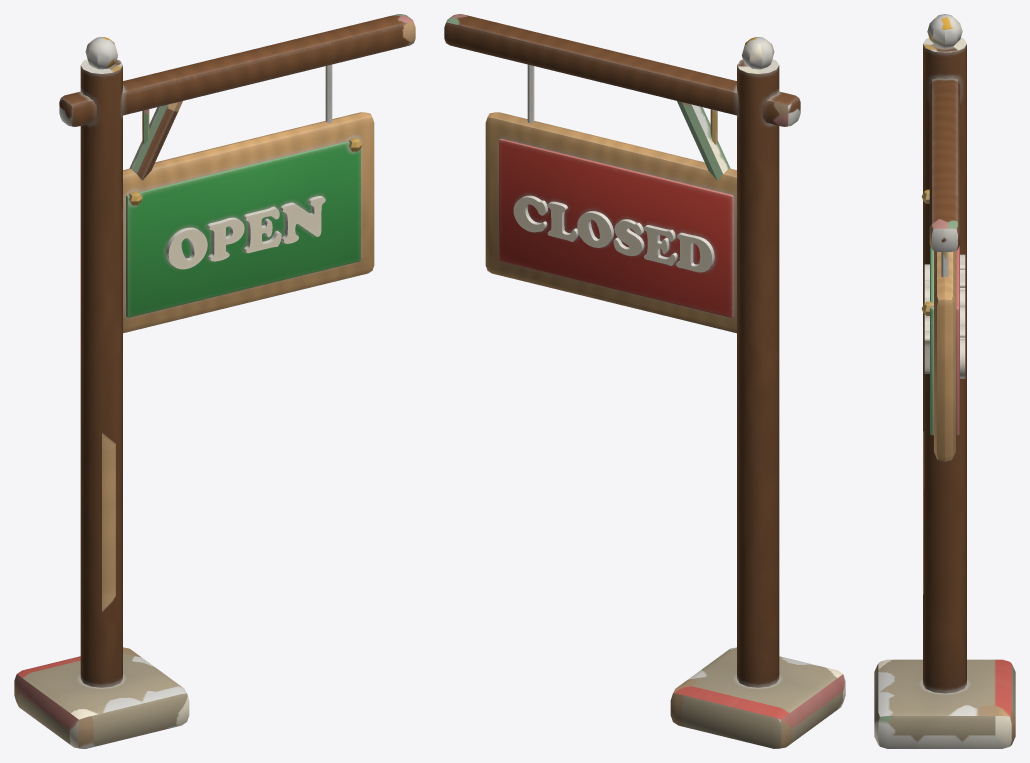
The model's file is open_sign.glb.
3 renders of one model, left to right at view 1: azimuth 30°, elevation 25°; view 2: azimuth 150°, elevation 25°; view 3: azimuth 270°, elevation 25°, orthographic. The views are drawn at different scales.
Visible parts, largest first — view 1: Post, Board; view 2: Post, Board; view 3: Post, Board.
Boxes of the visible parts, x1,y1,x2,y2 form: Post: [14, 14, 415, 748]; Board: [123, 112, 374, 333]; Post: [444, 14, 845, 748]; Board: [485, 112, 736, 333]; Post: [874, 14, 1015, 748]; Board: [921, 189, 965, 461].
Size of the model in its own units: 1.01 by 1.77 by 0.32.
Materials: 1 (1 with a texture image).
